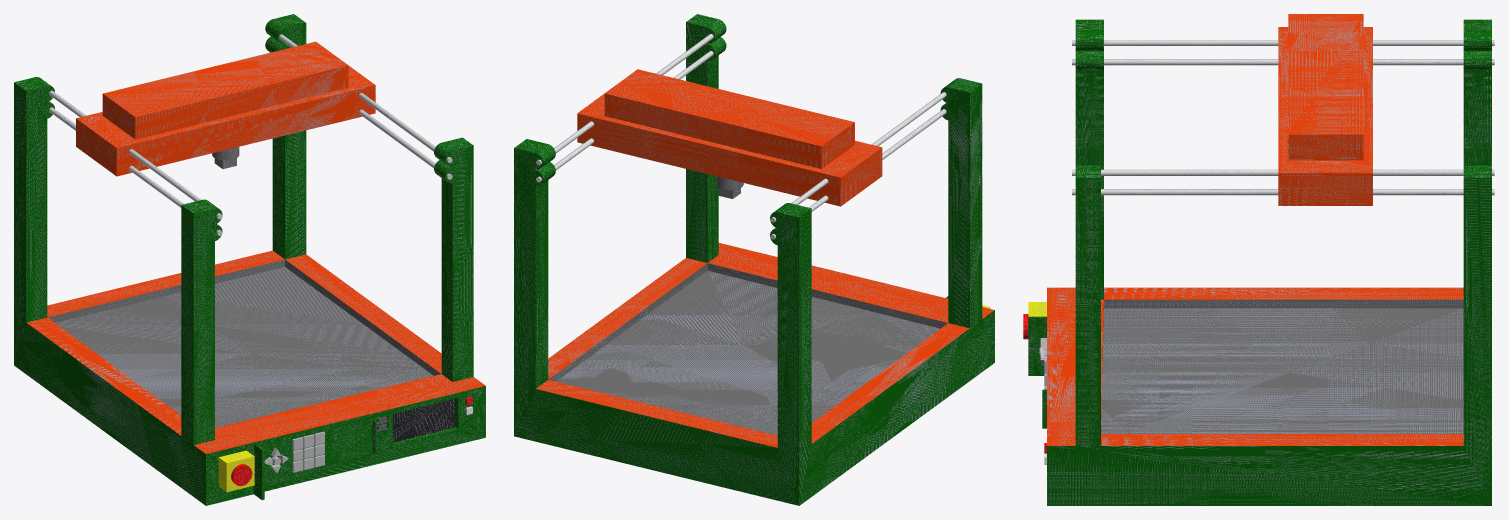
Rendered from machine3.dae.
3 renders of one model, left to right at view 1: azimuth 30°, elevation 25°; view 2: azimuth 150°, elevation 25°; view 3: azimuth 270°, elevation 25°, orthographic. The views are drawn at different scales.
Visible parts, largest first — view 1: machine3 (×14); view 2: machine3 (×12); view 3: machine3 (×11).
Part boxes in pixels (x1,y1,x2,y2): machine3 (×14): [14, 14, 485, 505]; machine3 (×12): [514, 14, 994, 505]; machine3 (×11): [1028, 14, 1494, 505].
Size of the model in its own units: 15.58 by 19.59 by 16.18.
